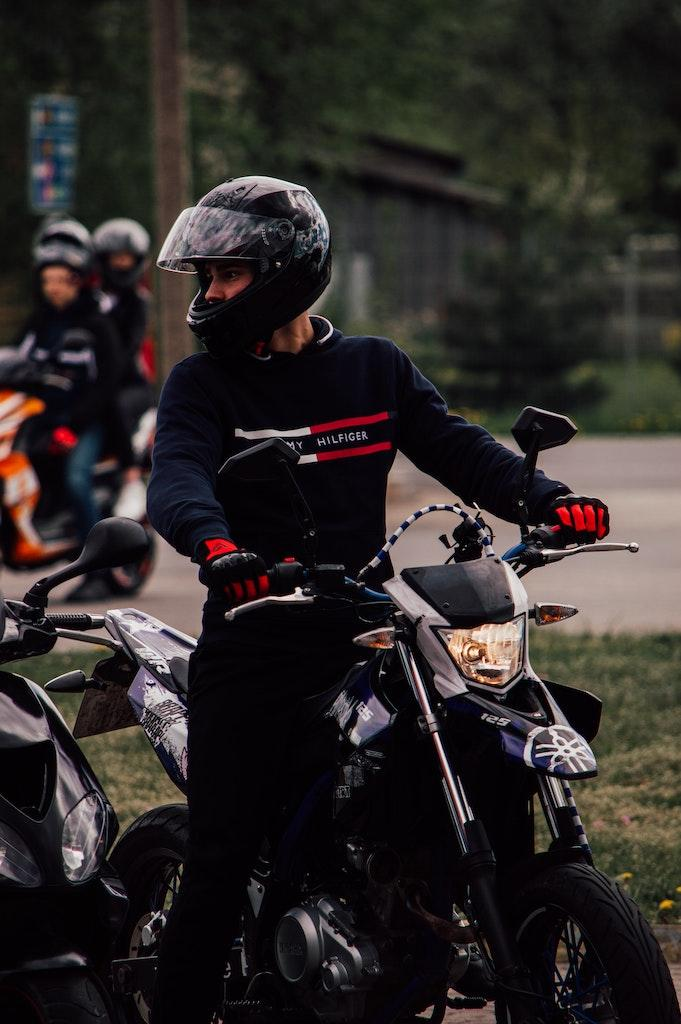helmet: (155, 173, 333, 361)
